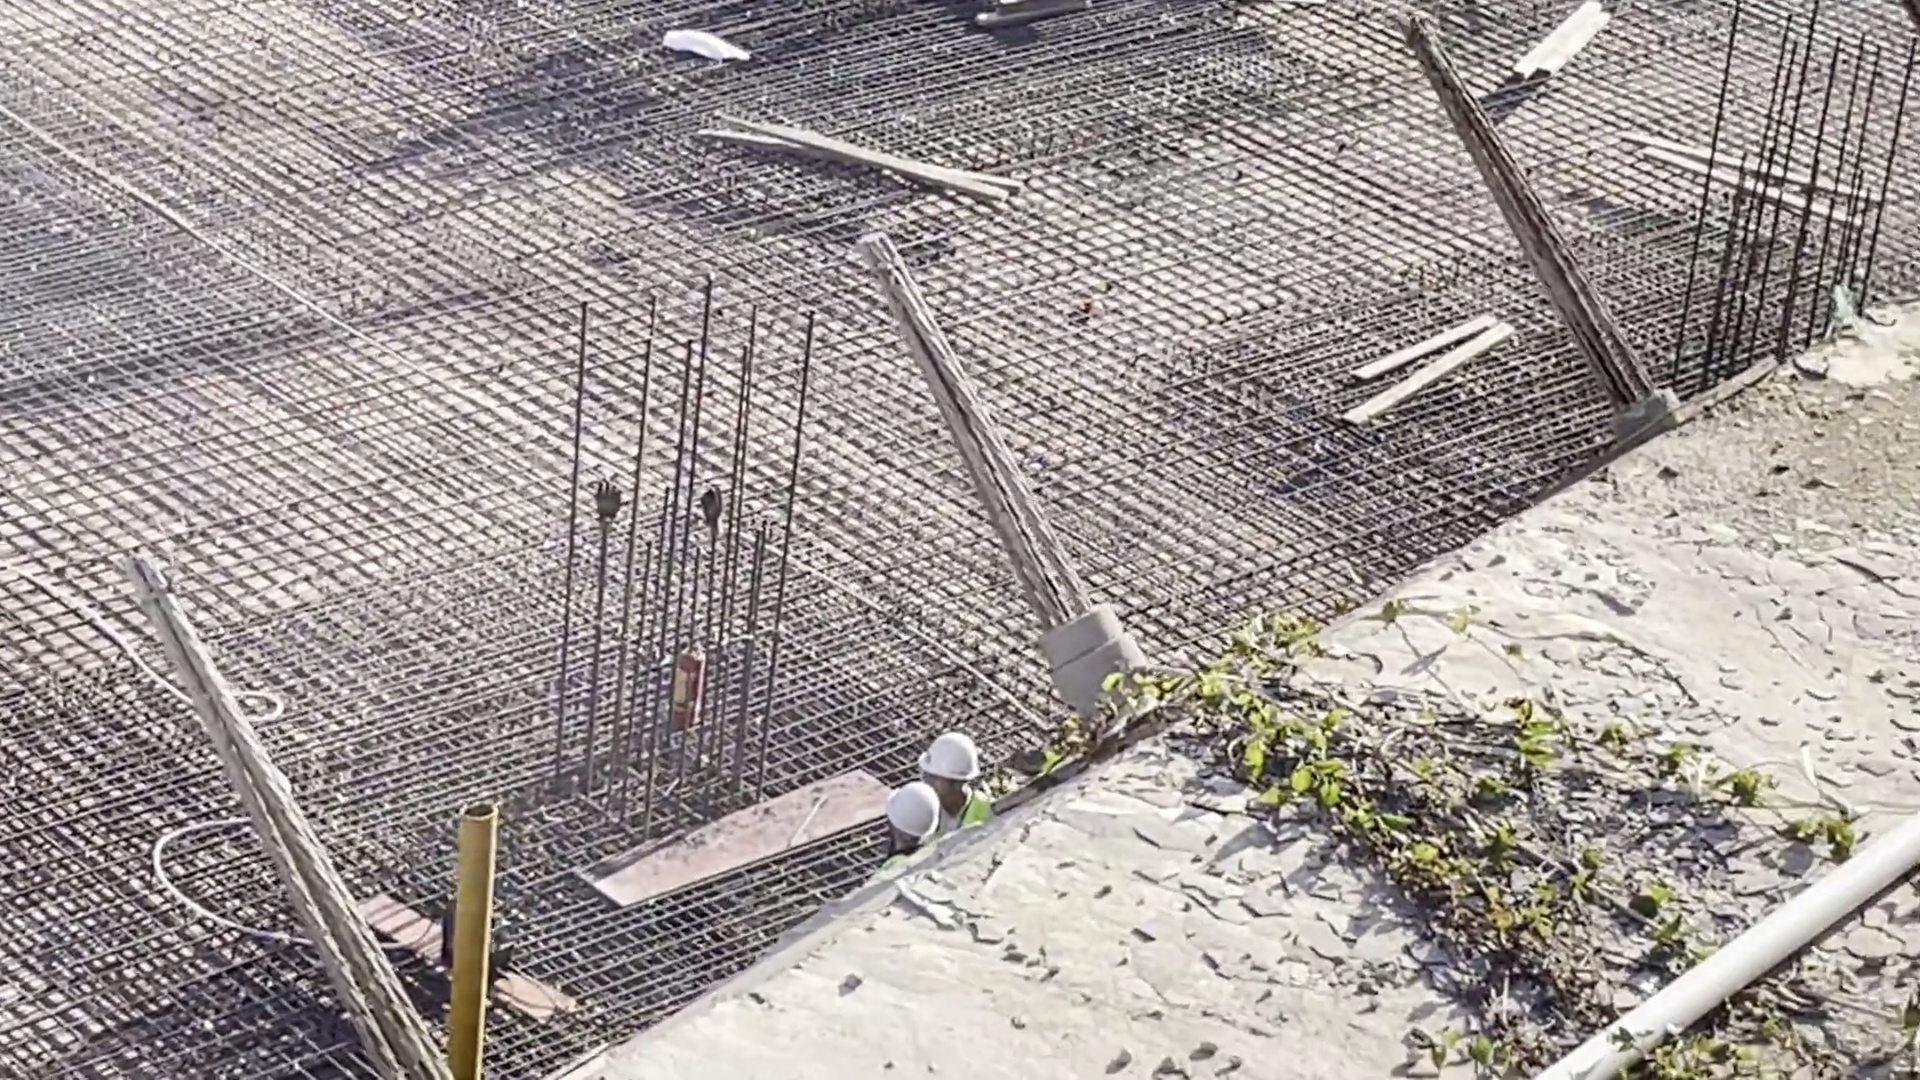helmet: (919, 727, 985, 777), (881, 792, 931, 829)
person: (893, 728, 1000, 832), (864, 777, 947, 865)
vest: (955, 803, 993, 829)
